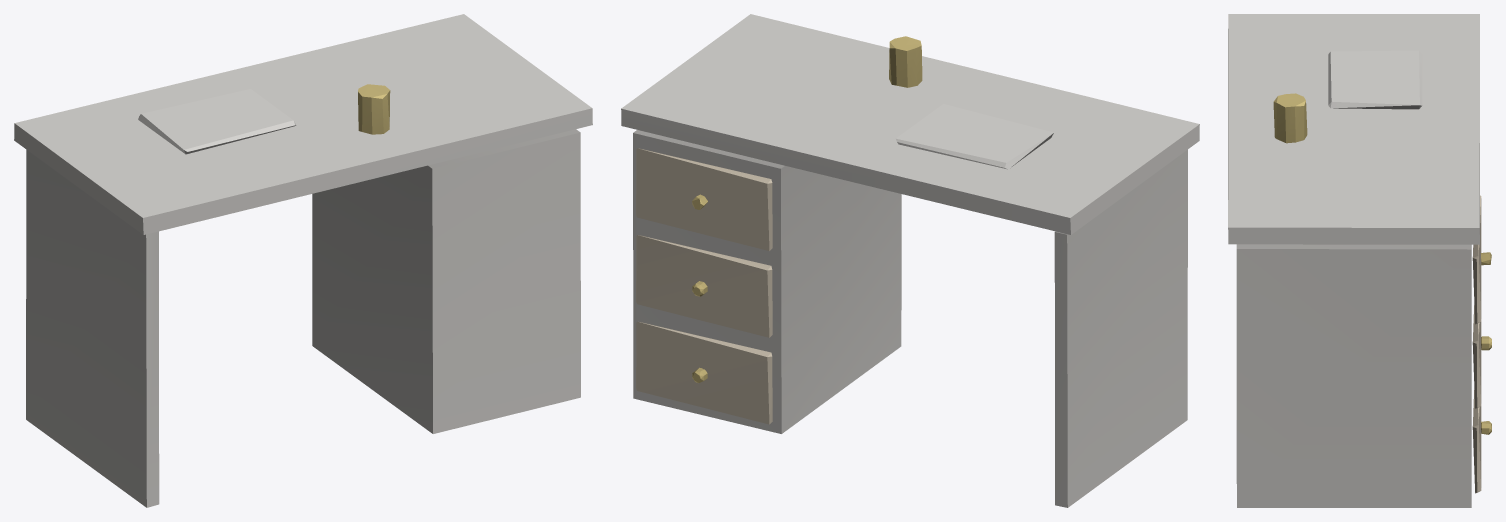
File: furn_desk__white_low.glb
3 views of the same model, side by side, from view 1: azimuth 30°, elevation 25°; view 2: azimuth 150°, elevation 25°; view 3: azimuth 270°, elevation 25° (orthographic). The views are drawn at different scales.
Bounding box in the file's own units: 1.19 × 0.8508 × 0.6222.
